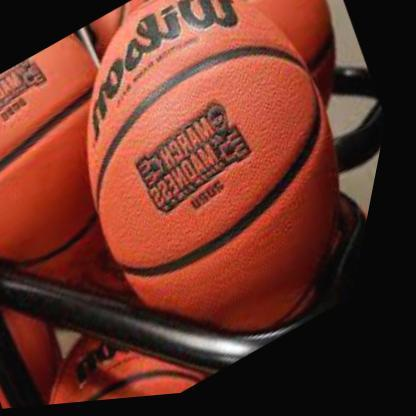basketball: (0, 0, 416, 411), (0, 19, 198, 328), (140, 0, 382, 174), (23, 278, 242, 410)
